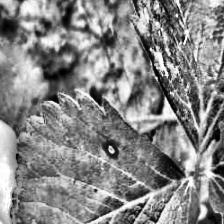Leaf Spot: (8, 89, 205, 224)
